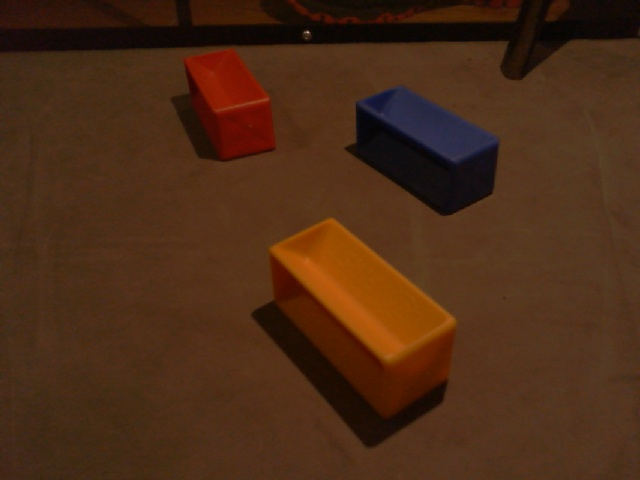BlueSample: (354, 84, 500, 214)
RedSample: (181, 46, 279, 165)
YellowSample: (268, 216, 458, 420)
